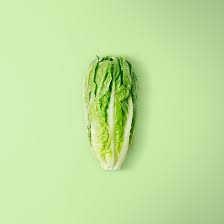lettuce: (76, 49, 165, 188)
